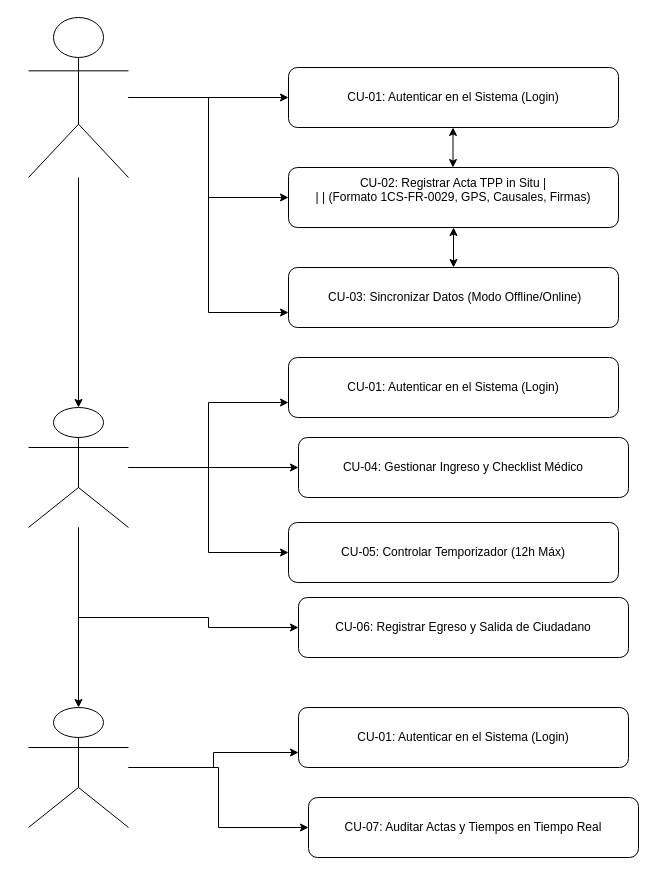
The diagram is 656 pixels wide and 875 high, and some of its shapes have lost their labels. The centre of each missing label's shape, as x and y in pixels:
Entes de control: the point at 78,767
Patrulla de vigilancia: the point at 78,97
Personal receptor CTP: the point at 78,467
